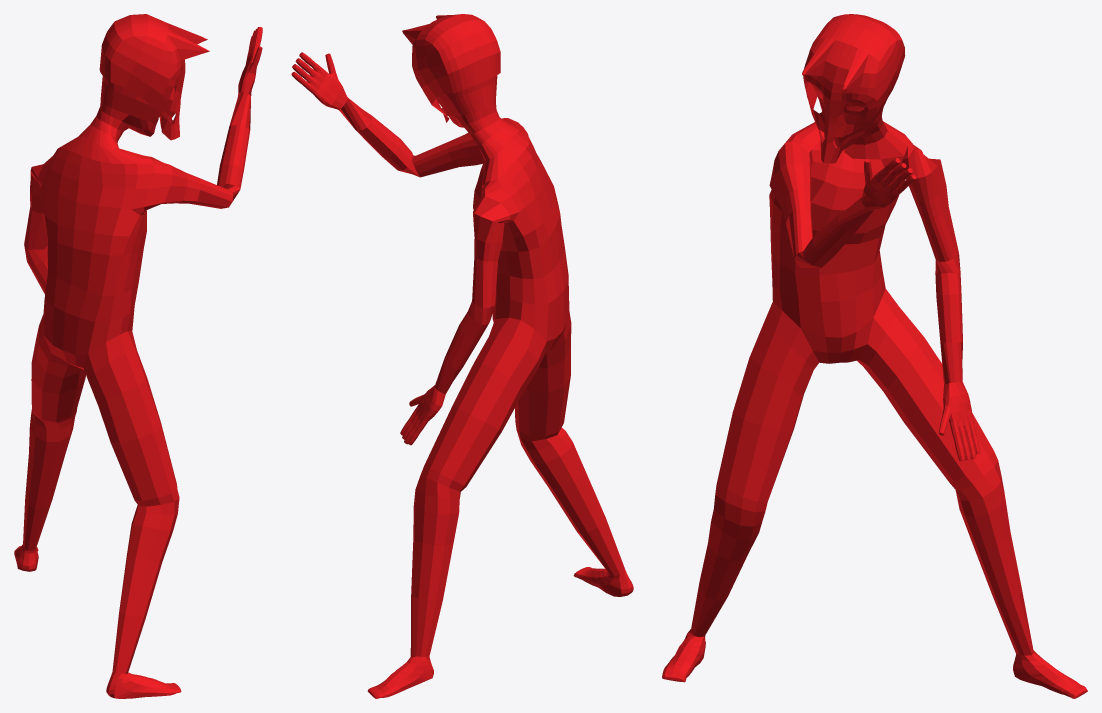
The model's file is activaAlarma_000132.obj.
3 views of the same model, side by side, from view 1: azimuth 30°, elevation 25°; view 2: azimuth 150°, elevation 25°; view 3: azimuth 270°, elevation 25° (orthographic). The views are drawn at different scales.
Visible parts, largest first — view 1: Plane.002_Plane.001; view 2: Plane.002_Plane.001; view 3: Plane.002_Plane.001.
Part boxes in pixels (left/top/right/bottom): Plane.002_Plane.001: left=14, top=14, right=262, bottom=698; Plane.002_Plane.001: left=291, top=14, right=633, bottom=698; Plane.002_Plane.001: left=662, top=14, right=1087, bottom=698.
Size of the model in its own units: 2.83 by 6.68 by 3.75.
